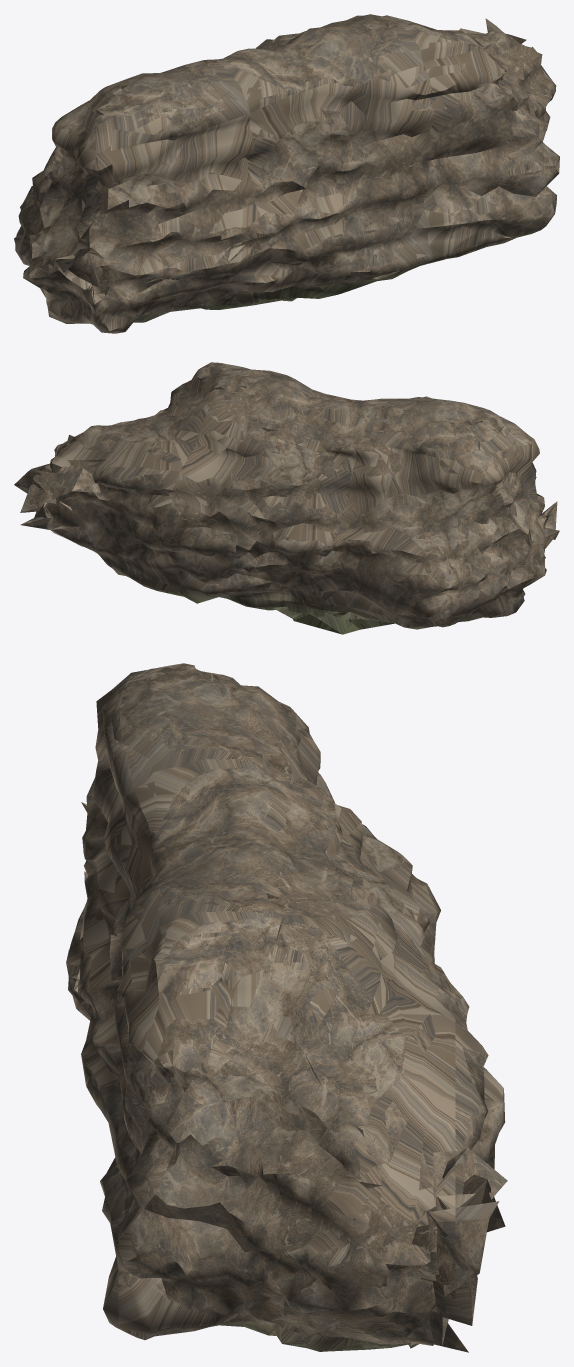
Rendered from coast_cliff_a.glb.
3 renders of one model, top to bottom at view 1: azimuth 30°, elevation 25°; view 2: azimuth 150°, elevation 25°; view 3: azimuth 270°, elevation 25°, orthographic. The views are drawn at different scales.
Parts seen in each view (by area): view 1: Cliff_Rock_Model; view 2: Cliff_Rock_Model; view 3: Cliff_Rock_Model.
Boxes of the visible parts, x1,y1,x2,y2 form: Cliff_Rock_Model: [14, 14, 559, 333]; Cliff_Rock_Model: [14, 362, 559, 634]; Cliff_Rock_Model: [66, 663, 507, 1352].
Size of the model in its own units: 7.66 by 3.28 by 3.15.
Materials: 1 (1 with a texture image).
